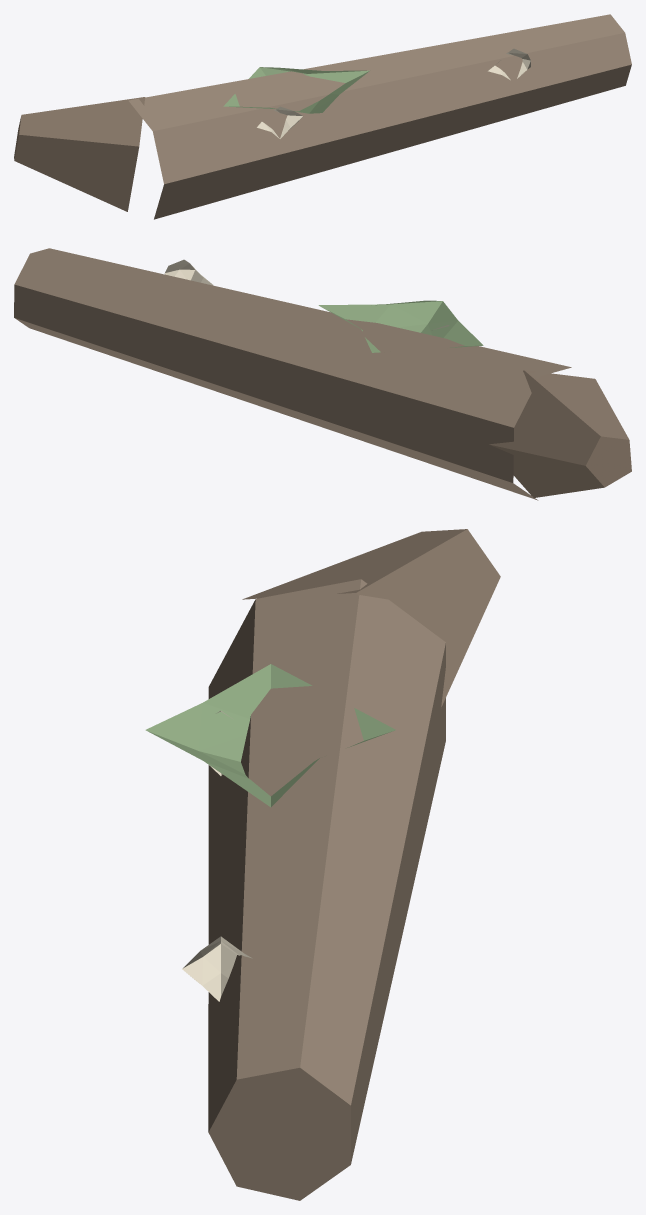
File: log_v15.glb
The picture shows the model from 3 angles, top to bottom: view 1: azimuth 30°, elevation 25°; view 2: azimuth 150°, elevation 25°; view 3: azimuth 270°, elevation 25°; orthographic projection. The views are drawn at different scales.
Visible parts, largest first — view 1: lod0; view 2: lod0; view 3: lod0.
Boxes of the visible parts, <box> form: lod0: <box>14,14,631,219</box>; lod0: <box>14,248,631,500</box>; lod0: <box>145,529,500,1200</box>.
Size of what is drawn, in the model's own units: 3.35 by 0.6969 by 0.9105.
